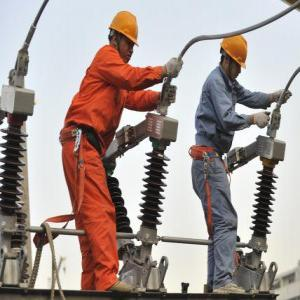yellow: (108, 8, 141, 64), (218, 29, 249, 83)
